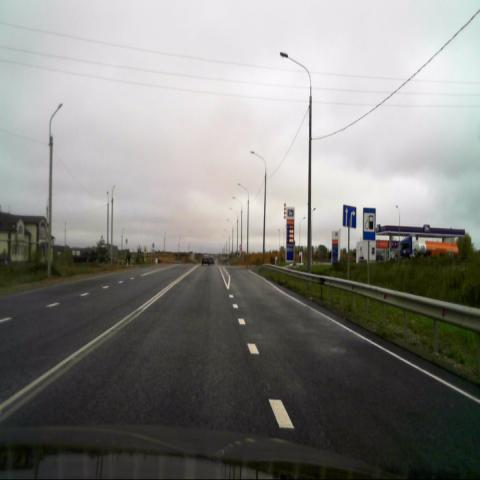5_15_2_2: (343, 204, 356, 229)
7_3: (363, 208, 375, 240)
